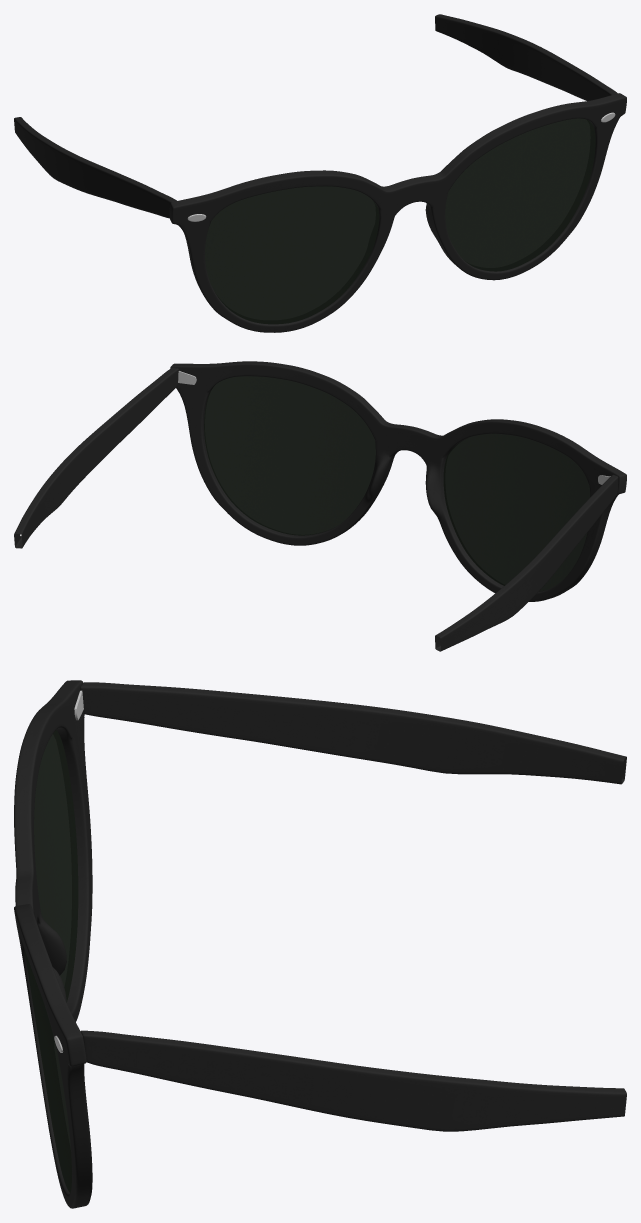
The model's file is RB4305App.glb.
3 views of the same model, one above another, from view 1: azimuth 30°, elevation 25°; view 2: azimuth 150°, elevation 25°; view 3: azimuth 270°, elevation 25° (orthographic). The views are drawn at different scales.
Parts seen in each view (by area): view 1: Lentes, armacao; view 2: Lentes, armacao; view 3: armacao, Lentes.
Part boxes in pixels (x1,y1,x2,y2): Lentes: (205, 118, 595, 324); armacao: (14, 14, 626, 332); Lentes: (204, 376, 590, 591); armacao: (14, 361, 626, 651); armacao: (14, 680, 626, 1208); Lentes: (24, 730, 78, 1192).
Size of the model in its own units: 0.1618 by 0.0555 by 0.1143.
Materials: 2 (2 with a texture image).
